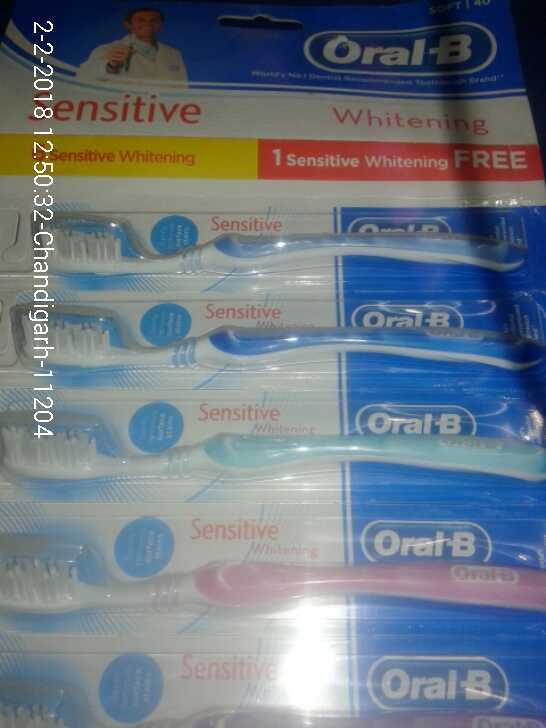oralb: (1, 289, 542, 397), (1, 528, 546, 635), (1, 413, 546, 499), (38, 206, 514, 283)
